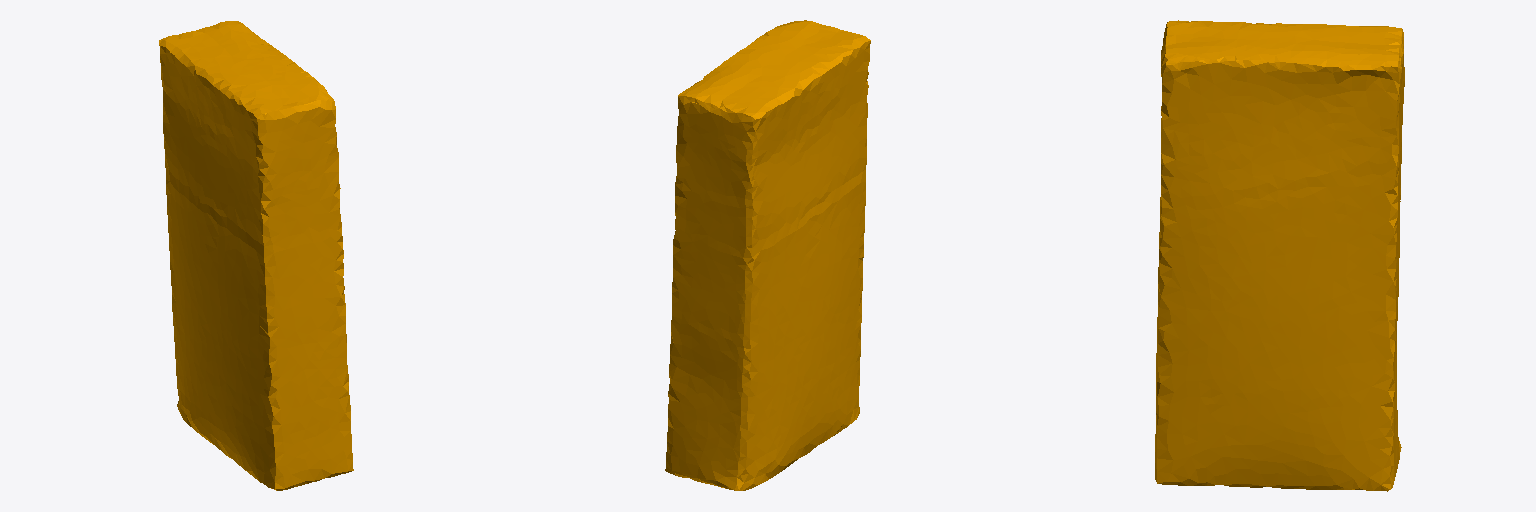
URDF robot description (sugarBox):
<?xml version="1.0" encoding="UTF-8"?>
<robot name="sugarBox">
	<link name="base">
		<collision>
			<geometry>
				<mesh filename="sugarBox.obj"/>
			</geometry>
			<origin xyz="0 0 0"/>
		</collision>
		<visual>
			<geometry>
				<mesh filename="sugarBox.obj"/>
			</geometry>
			<origin xyz="0 0 0"/>
		</visual>
		<inertial>
			<mass value="0.025"/>
			<inertia ixx="7.875562681097225e-05" ixy="-4.606606952697468e-07" ixz="2.3424088378700815e-06" iyy="6.606197467265342e-05" iyz="-7.926101272512012e-07" izz="1.9817572290197033e-05" />
			<origin xyz="-0.0002307671004918875 -0.000359805188915407 -0.0020076266841375545"/>
		</inertial>
	</link>
</robot>

--- Render facts (derived) ---
3 views of the same robot in one strip: view 1: azimuth 30°, elevation 25°; view 2: azimuth 150°, elevation 25°; view 3: azimuth 270°, elevation 25° (orthographic).
Model sugarBox with 1 links and 0 joints (none), rooted at base, posed every joint at zero.
Links seen in each view (by area): view 1: base; view 2: base; view 3: base.
Boxes of the visible links, x1=… form: base: x1=159, y1=21, x2=353, y2=490; base: x1=665, y1=20, x2=870, y2=490; base: x1=1155, y1=20, x2=1404, y2=491.
Size in the robot's own frame: 0.0491 by 0.0941 by 0.1761 metres.
Meshes: 1 distinct files referenced, 1 mesh visuals loaded (1 OBJ).